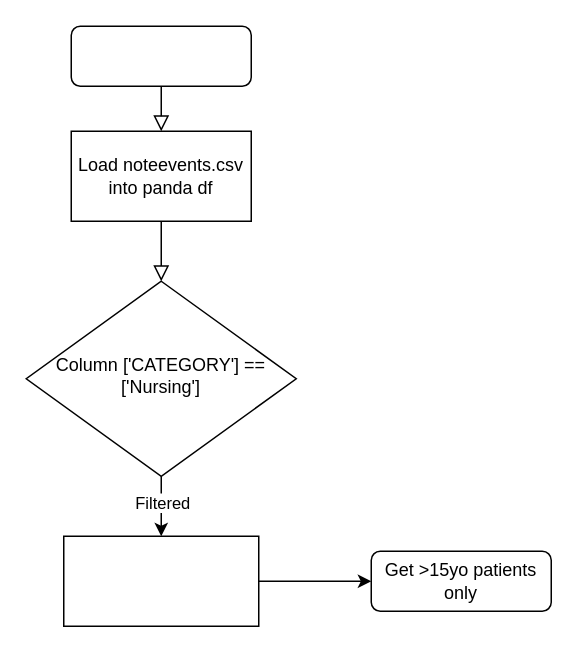
Some shapes in this 578 by 653 pixel diagram are drawn without their labels. The box of each missing label's shape, as (x1, y1, x2, y2) in pixels:
7704 distinct patients, 223,556 note rows: (62, 535, 259, 626)
Get notes of Nursing category: (70, 25, 251, 86)
